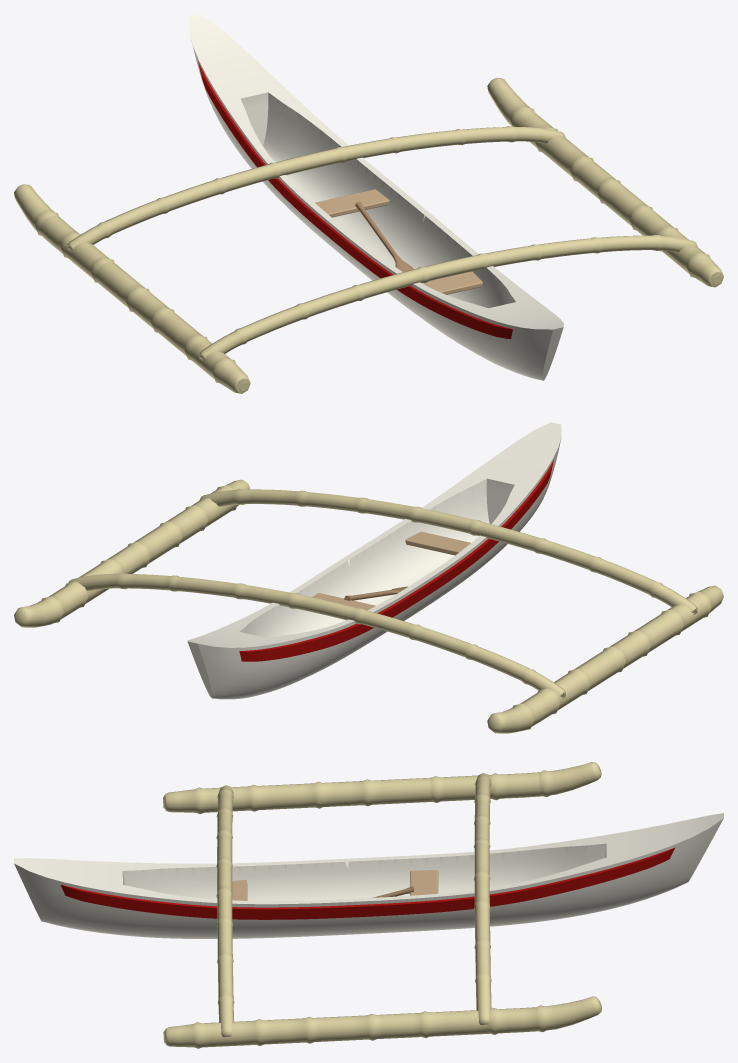
Rendered from boat_bangka_beached_17838.glb.
3 renders of one model, top to bottom at view 1: azimuth 30°, elevation 25°; view 2: azimuth 150°, elevation 25°; view 3: azimuth 270°, elevation 25°, orthographic. The views are drawn at different scales.
Visible parts, largest first — view 1: bangka_beached_17838_bamboo, bangka_beached_17838_paint_hull, bangka_beached_17838_paint_trim, bangka_beached_17838_plank; view 2: bangka_beached_17838_bamboo, bangka_beached_17838_paint_hull, bangka_beached_17838_paint_trim, bangka_beached_17838_plank; view 3: bangka_beached_17838_paint_hull, bangka_beached_17838_bamboo, bangka_beached_17838_paint_trim, bangka_beached_17838_plank.
Boxes of the visible parts, left/top/right/bottom form: bangka_beached_17838_bamboo: left=14, top=77, right=723, bottom=393; bangka_beached_17838_paint_hull: left=189, top=14, right=563, bottom=380; bangka_beached_17838_paint_trim: left=198, top=61, right=512, bottom=338; bangka_beached_17838_plank: left=315, top=189, right=482, bottom=294; bangka_beached_17838_bamboo: left=14, top=479, right=723, bottom=733; bangka_beached_17838_paint_hull: left=187, top=422, right=561, bottom=699; bangka_beached_17838_paint_trim: left=239, top=460, right=553, bottom=661; bangka_beached_17838_plank: left=312, top=531, right=470, bottom=610; bangka_beached_17838_paint_hull: left=14, top=813, right=723, bottom=938; bangka_beached_17838_bamboo: left=163, top=762, right=601, bottom=1048; bangka_beached_17838_paint_trim: left=60, top=847, right=674, bottom=919; bangka_beached_17838_plank: left=232, top=870, right=438, bottom=900.
Size of the model in its own units: 4.84 by 1.15 by 6.11.
